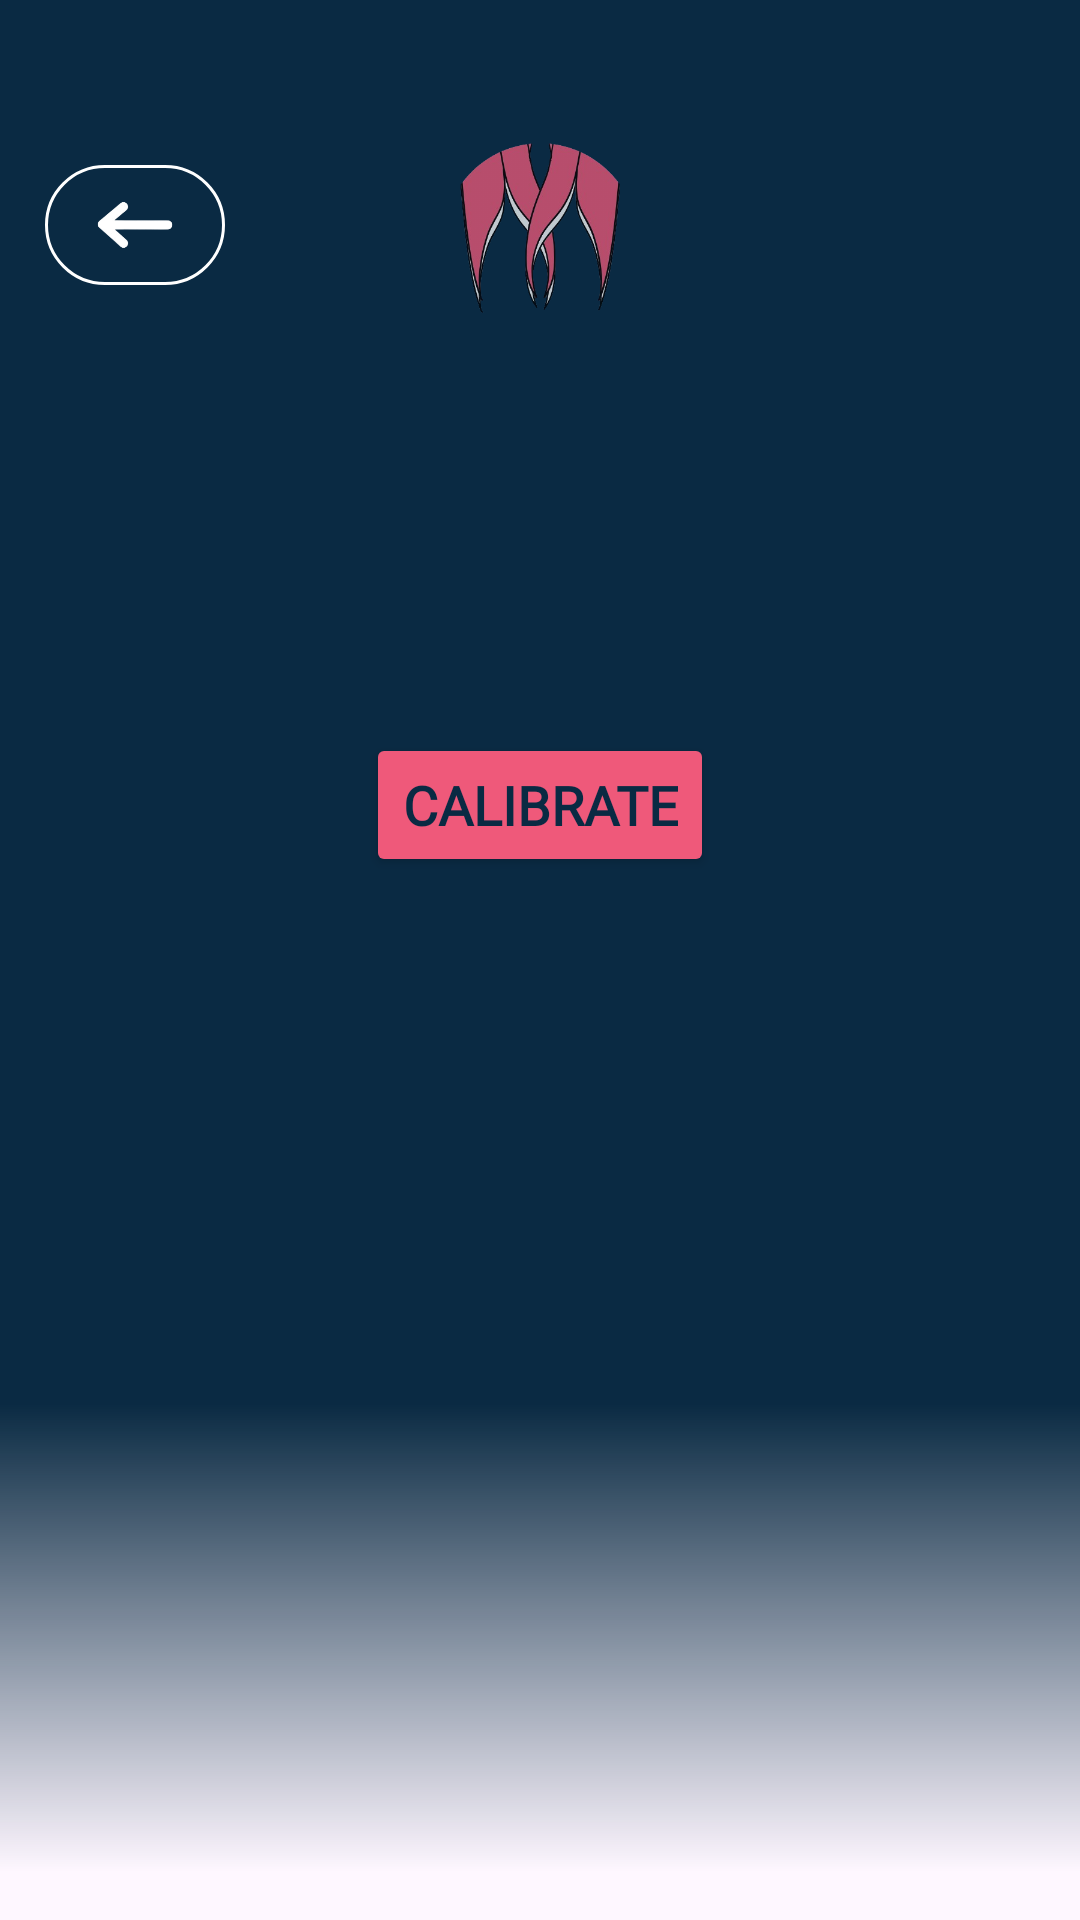

Screen size 1080×1920. Icon name, then its center in pixels as (x,y):
arrow: (135,225)
